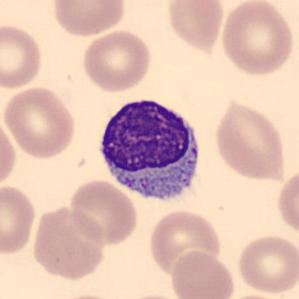Lymphocyte: (92, 91, 208, 210)
RBC: (212, 97, 288, 182), (30, 203, 108, 281), (218, 0, 296, 78), (1, 84, 78, 160), (146, 208, 224, 278), (67, 177, 140, 246), (80, 28, 153, 93), (235, 232, 298, 295), (169, 248, 237, 299), (165, 0, 226, 53), (0, 21, 45, 90), (50, 0, 128, 38), (0, 181, 37, 256), (274, 164, 299, 240), (0, 116, 18, 190), (54, 292, 125, 299), (119, 292, 187, 299), (222, 292, 288, 299)
